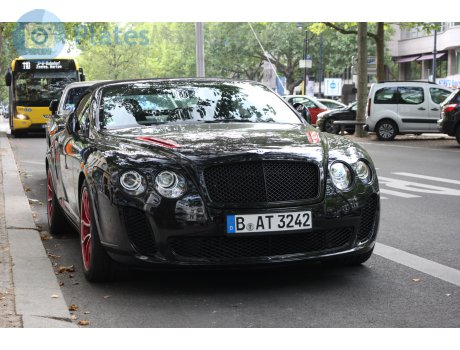License Plates: (232, 210, 315, 226)
